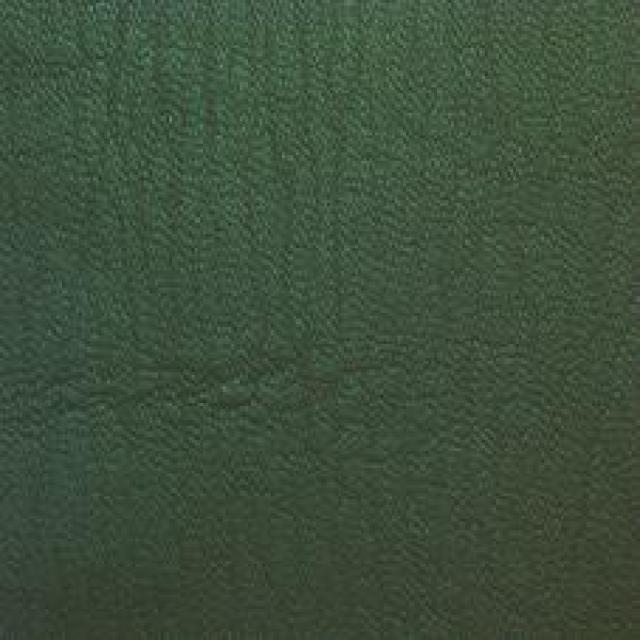Growth Marks: (83, 28, 423, 207)
